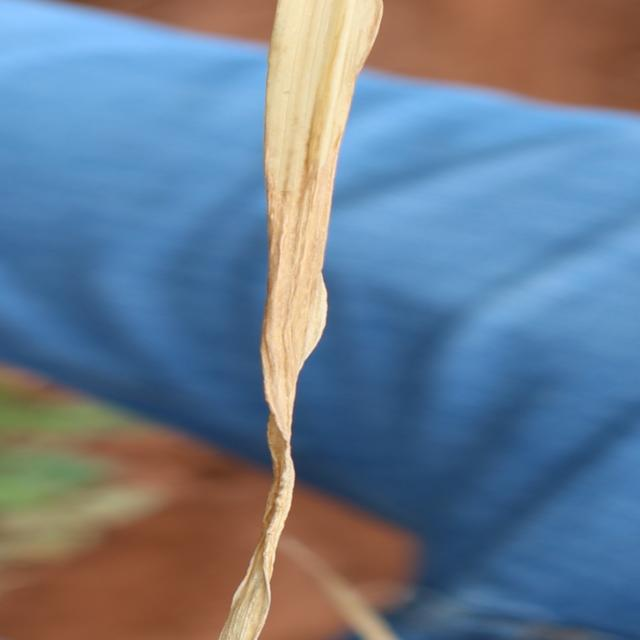Septoria: (217, 1, 387, 638)
